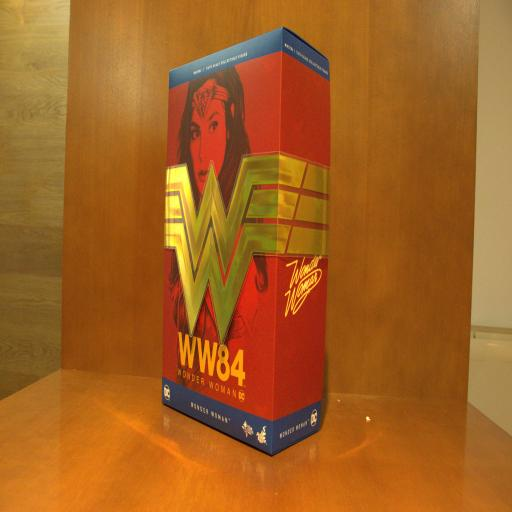WonderWoman: (165, 20, 333, 456)
